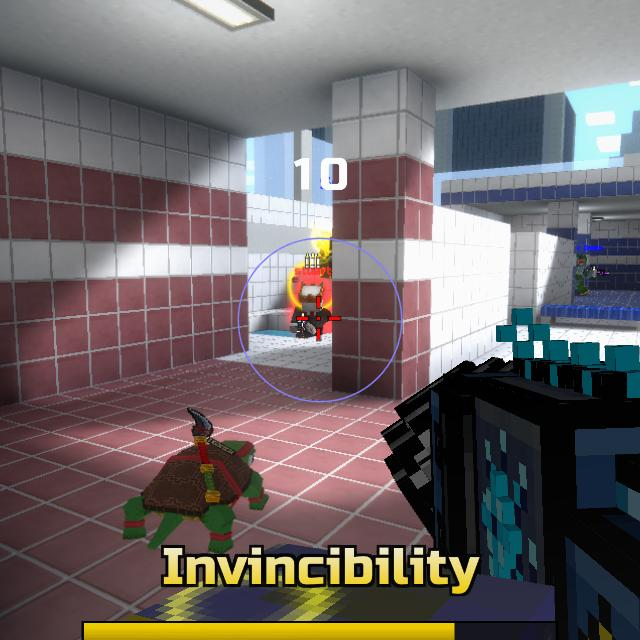Enemy: (290, 286, 331, 338)
